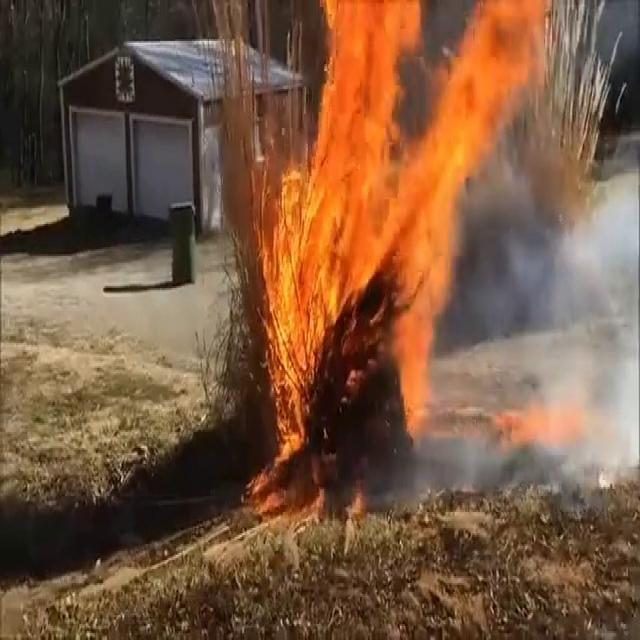Fire: (258, 1, 534, 488)
Smoke: (458, 142, 640, 494)
